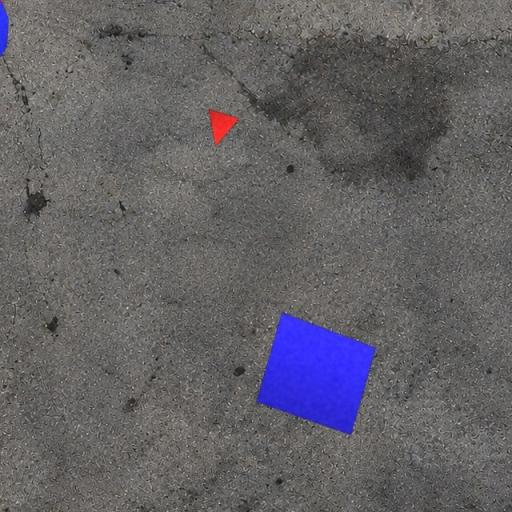BLUE_SQUARE: (255, 311, 377, 436)
